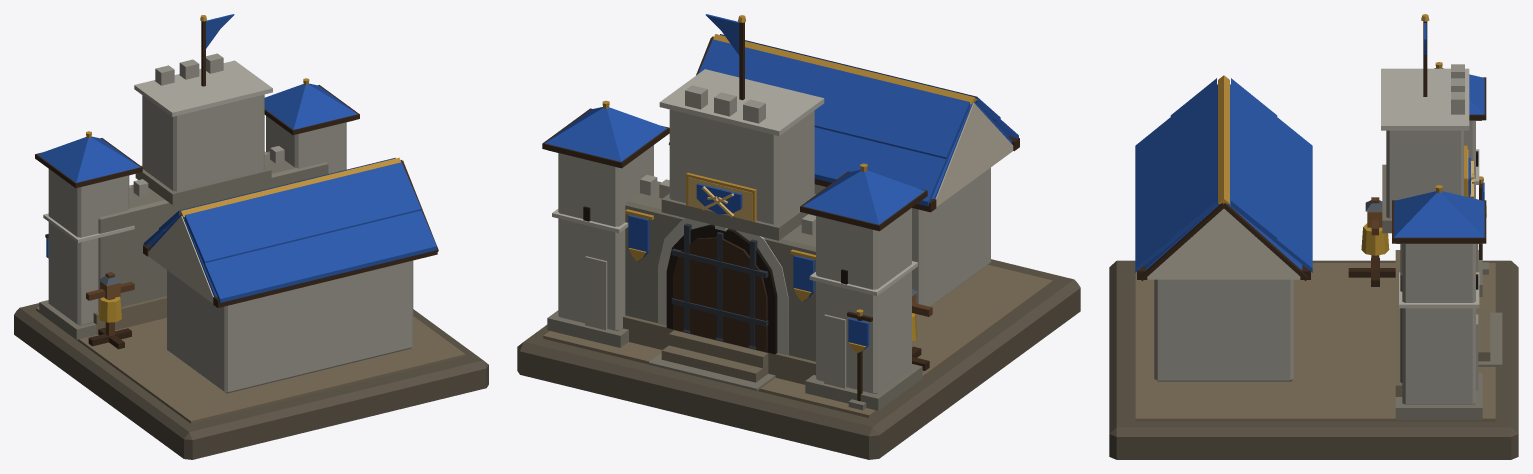
3 views of the same model, side by side, from view 1: azimuth 30°, elevation 25°; view 2: azimuth 150°, elevation 25°; view 3: azimuth 270°, elevation 25° (orthographic). The views are drawn at different scales.
Visible parts, largest first — view 1: 兵营_3星; view 2: 兵营_3星; view 3: 兵营_3星.
Boxes of the visible parts, x1,y1,x2,y2 form: 兵营_3星: (14, 14, 488, 459); 兵营_3星: (517, 14, 1080, 459); 兵营_3星: (1109, 14, 1518, 459).
Bounding box in the file's own units: 1 × 0.966 × 1.
